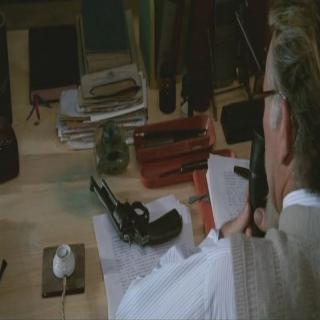gun: (87, 166, 186, 243)
